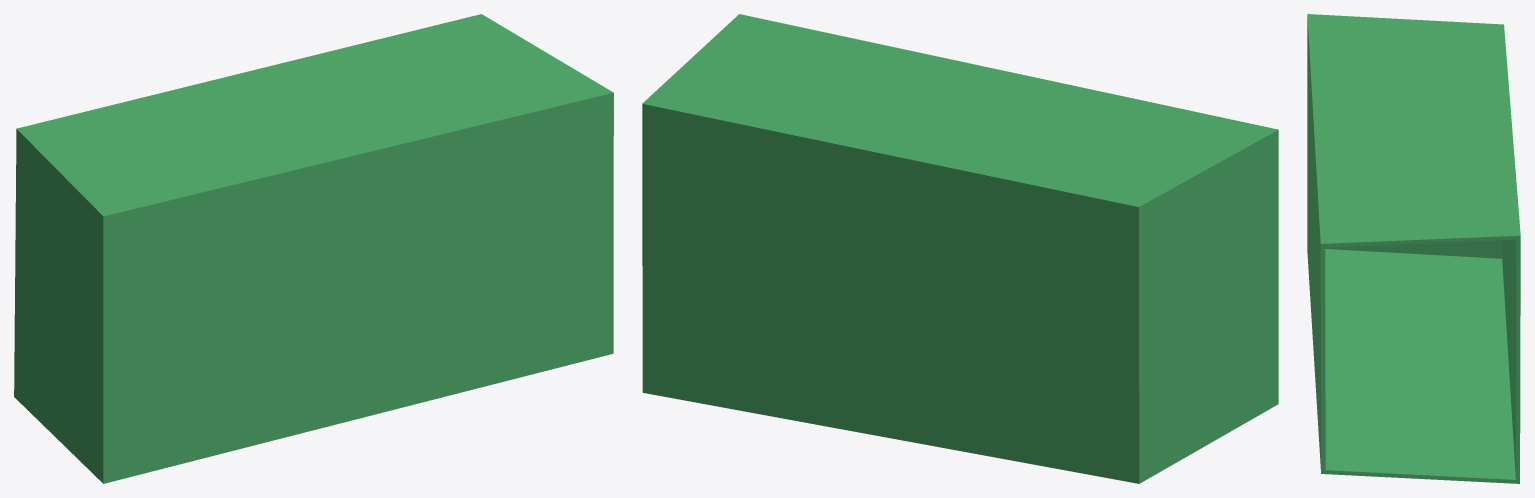
Rendered from Museum_Path_End.fbx.
3 renders of one model, left to right at view 1: azimuth 30°, elevation 25°; view 2: azimuth 150°, elevation 25°; view 3: azimuth 270°, elevation 25°, orthographic. The views are drawn at different scales.
Visible parts, largest first — view 1: Room_End_Path; view 2: Room_End_Path; view 3: Room_End_Path.
Boxes of the visible parts, bbox=[...] form: Room_End_Path: bbox=[14, 14, 613, 483]; Room_End_Path: bbox=[642, 14, 1278, 483]; Room_End_Path: bbox=[1307, 14, 1520, 483].
Size of the model in its own units: 1075 by 575 by 435.
